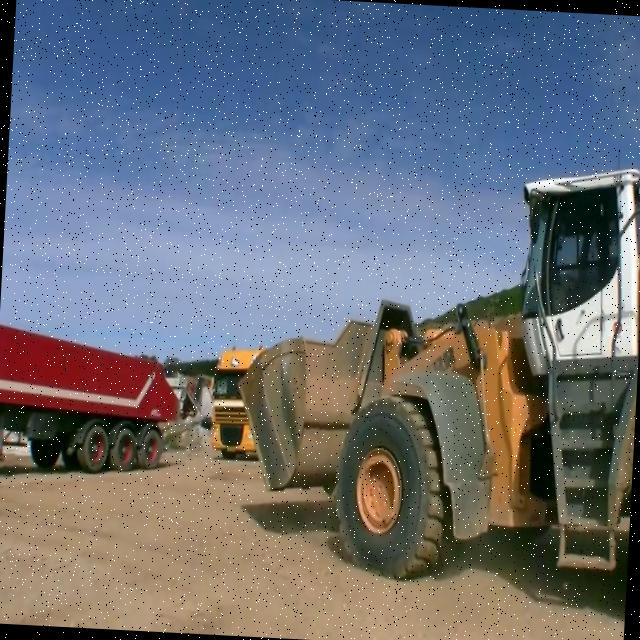Dump Truck: (0, 324, 188, 467), (206, 349, 257, 454)
Loader: (224, 139, 640, 594)
